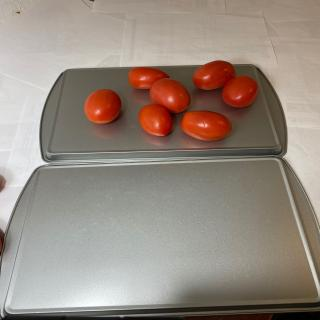Chilli: (83, 60, 260, 141)
Tomato: (181, 110, 232, 141), (149, 78, 191, 113), (192, 60, 236, 90), (85, 89, 122, 124), (222, 76, 259, 108), (138, 105, 172, 136), (128, 67, 170, 89)
